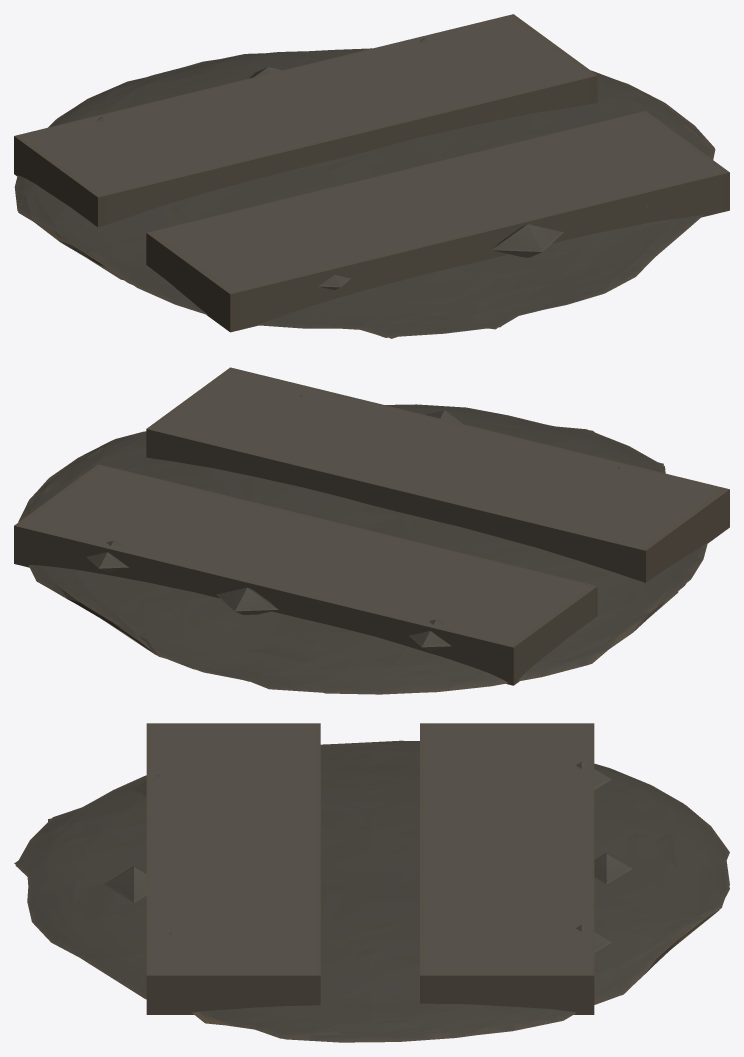
The model's file is SF_INCL_VENTED_SCAR_V1.glb.
3 renders of one model, top to bottom at view 1: azimuth 30°, elevation 25°; view 2: azimuth 150°, elevation 25°; view 3: azimuth 270°, elevation 25°, orthographic. The views are drawn at different scales.
Visible parts, largest first — view 1: LOD0_SF_INCL_VENTED_SCAR_V1, LOD1_SF_INCL_VENTED_SCAR_V1, LOD2_SF_INCL_VENTED_SCAR_V1; view 2: LOD0_SF_INCL_VENTED_SCAR_V1, LOD1_SF_INCL_VENTED_SCAR_V1, LOD2_SF_INCL_VENTED_SCAR_V1; view 3: LOD0_SF_INCL_VENTED_SCAR_V1, LOD1_SF_INCL_VENTED_SCAR_V1, LOD2_SF_INCL_VENTED_SCAR_V1.
Boxes of the visible parts, x1=… form: LOD0_SF_INCL_VENTED_SCAR_V1: x1=14, y1=14, x2=729, y2=338; LOD1_SF_INCL_VENTED_SCAR_V1: x1=27, y1=51, x2=698, y2=338; LOD2_SF_INCL_VENTED_SCAR_V1: x1=118, y1=80, x2=608, y2=252; LOD0_SF_INCL_VENTED_SCAR_V1: x1=14, y1=367, x2=729, y2=694; LOD1_SF_INCL_VENTED_SCAR_V1: x1=37, y1=408, x2=680, y2=687; LOD2_SF_INCL_VENTED_SCAR_V1: x1=123, y1=470, x2=630, y2=669; LOD0_SF_INCL_VENTED_SCAR_V1: x1=14, y1=723, x2=729, y2=1042; LOD1_SF_INCL_VENTED_SCAR_V1: x1=16, y1=743, x2=721, y2=1034; LOD2_SF_INCL_VENTED_SCAR_V1: x1=349, y1=753, x2=687, y2=1006.
Size of the model in its own units: 1.15 by 0.1315 by 1.15.
1 material, 1 textured.
